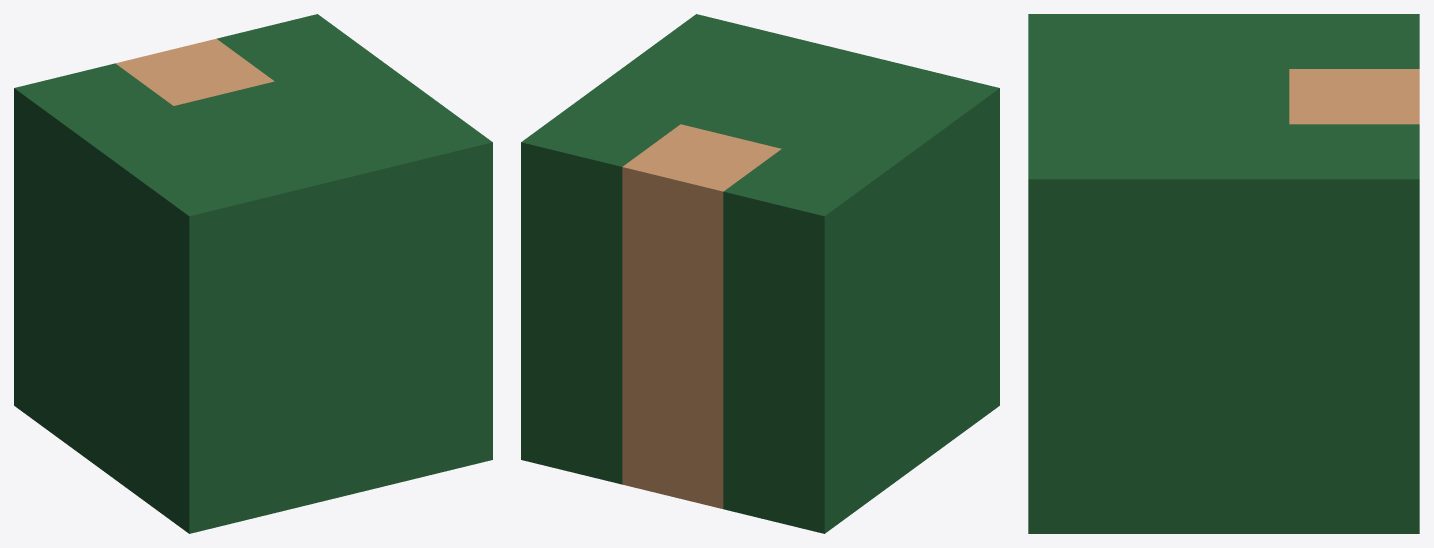
File: DeadEndPathForest(MODEL).fbx
3 views of the same model, side by side, from view 1: azimuth 30°, elevation 25°; view 2: azimuth 150°, elevation 25°; view 3: azimuth 270°, elevation 25° (orthographic). The views are drawn at different scales.
Visible parts, largest first — view 1: PFFF; view 2: PFFF; view 3: PFFF.
Part boxes in pixels (<box>): PFFF: <box>14,14,492,533</box>; PFFF: <box>521,14,999,533</box>; PFFF: <box>1028,14,1419,533</box>.
Bounding box in the file's own units: 200 × 200 × 200.
